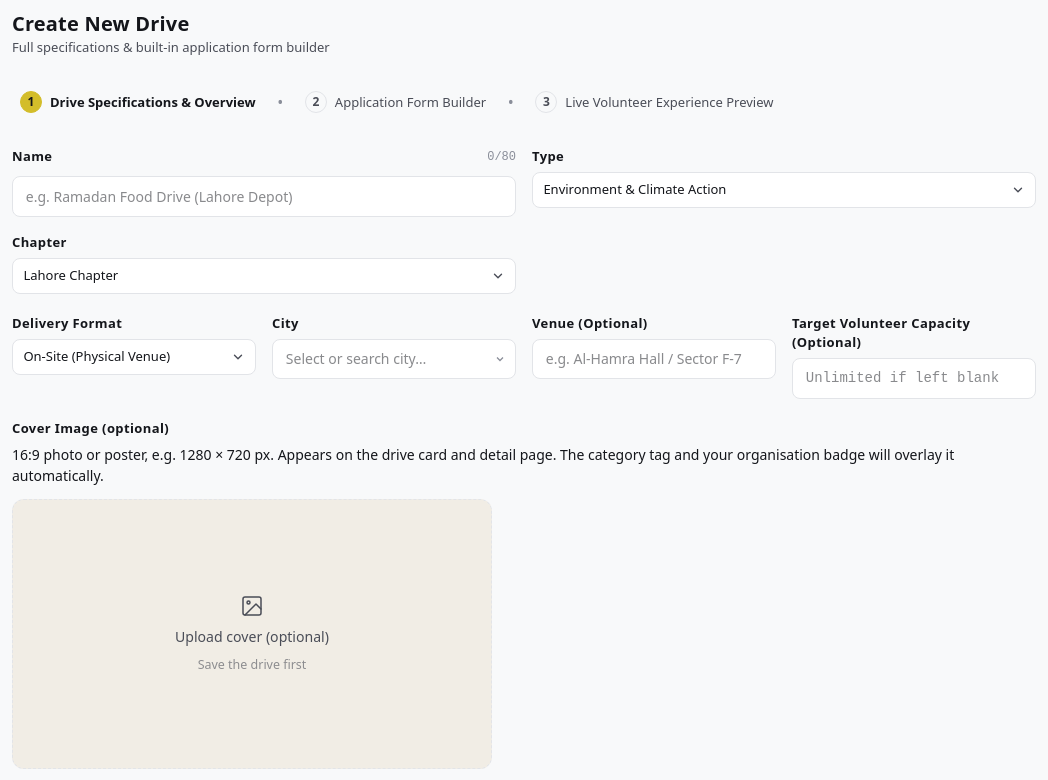
Test case: Comprehensive Roles & Permissions Automated Test Matrix › Matrix 5: Chapter Scoping Boundaries › Lahore Coordinator in CreateOpportunityForm only sees Lahore chapter and no org-wide option
Click the dropdown labelled "Chapter": point(71, 275) top-left (12, 258), bottom-right (516, 294)
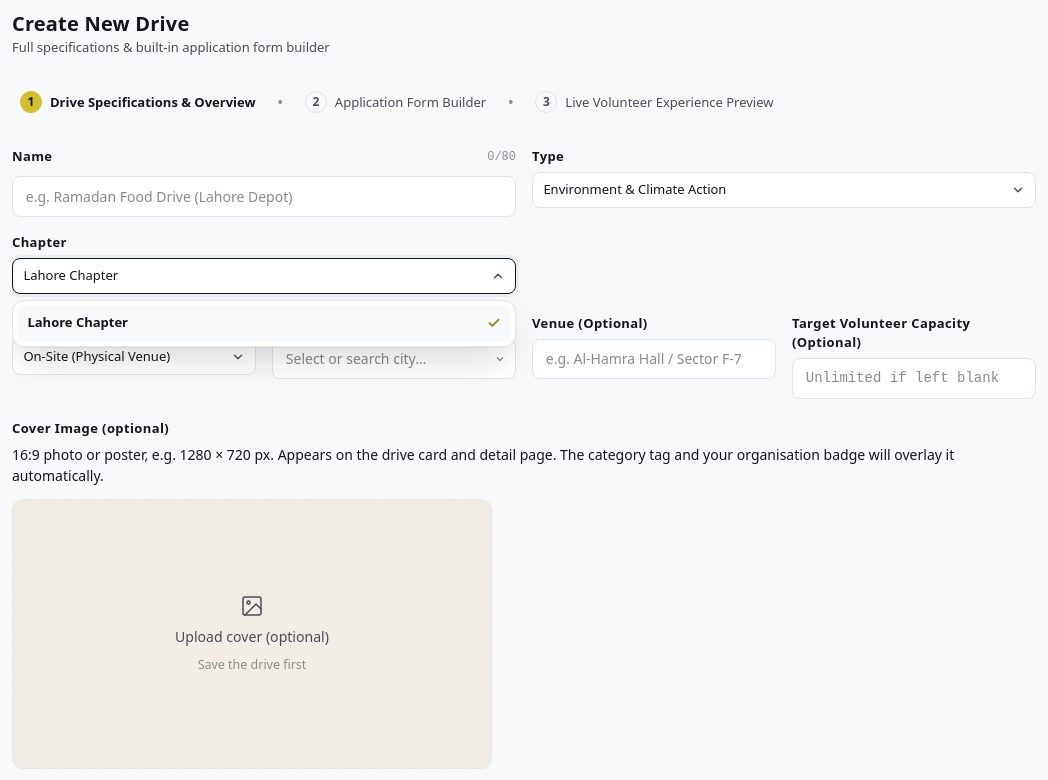
Expected: the option "Lahore Chapter" is shown, top-left (18, 305), bottom-right (510, 341)
